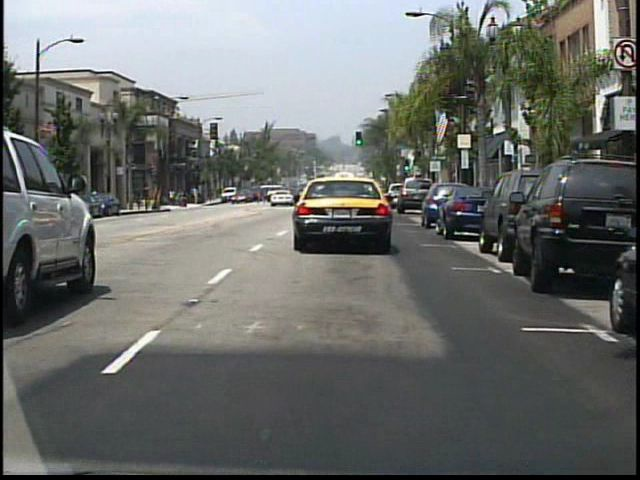person: (187, 189, 195, 209)
